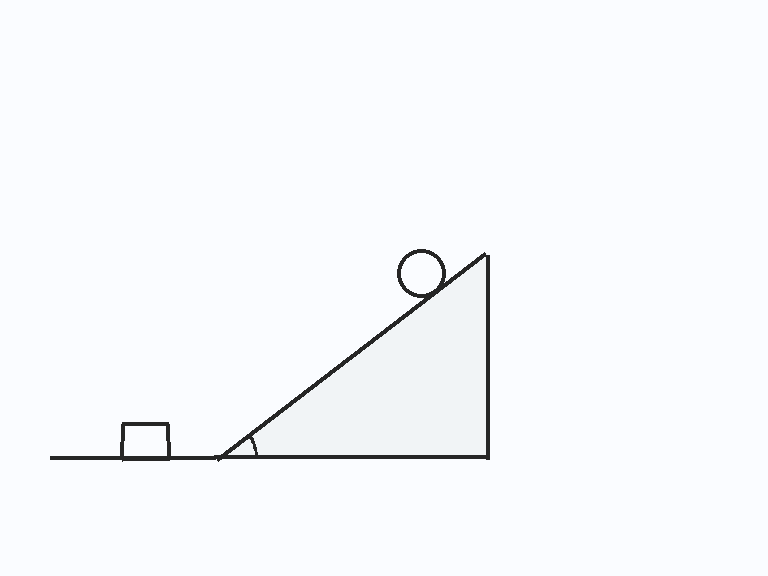ball: (395, 247, 447, 299)
block: (120, 422, 170, 460)
ramp: (214, 252, 489, 460)
